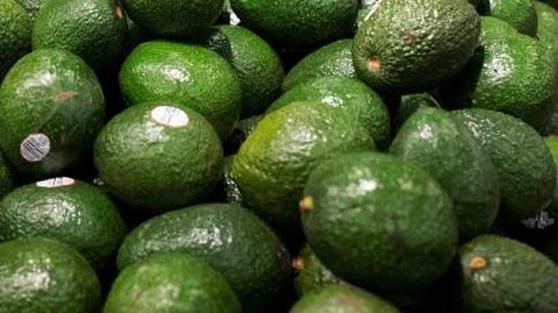avocado: (296, 146, 462, 286), (126, 199, 296, 305), (227, 98, 386, 201), (103, 95, 230, 216), (121, 29, 250, 147), (5, 46, 109, 189), (3, 161, 133, 268), (351, 2, 487, 99), (2, 234, 108, 313)
